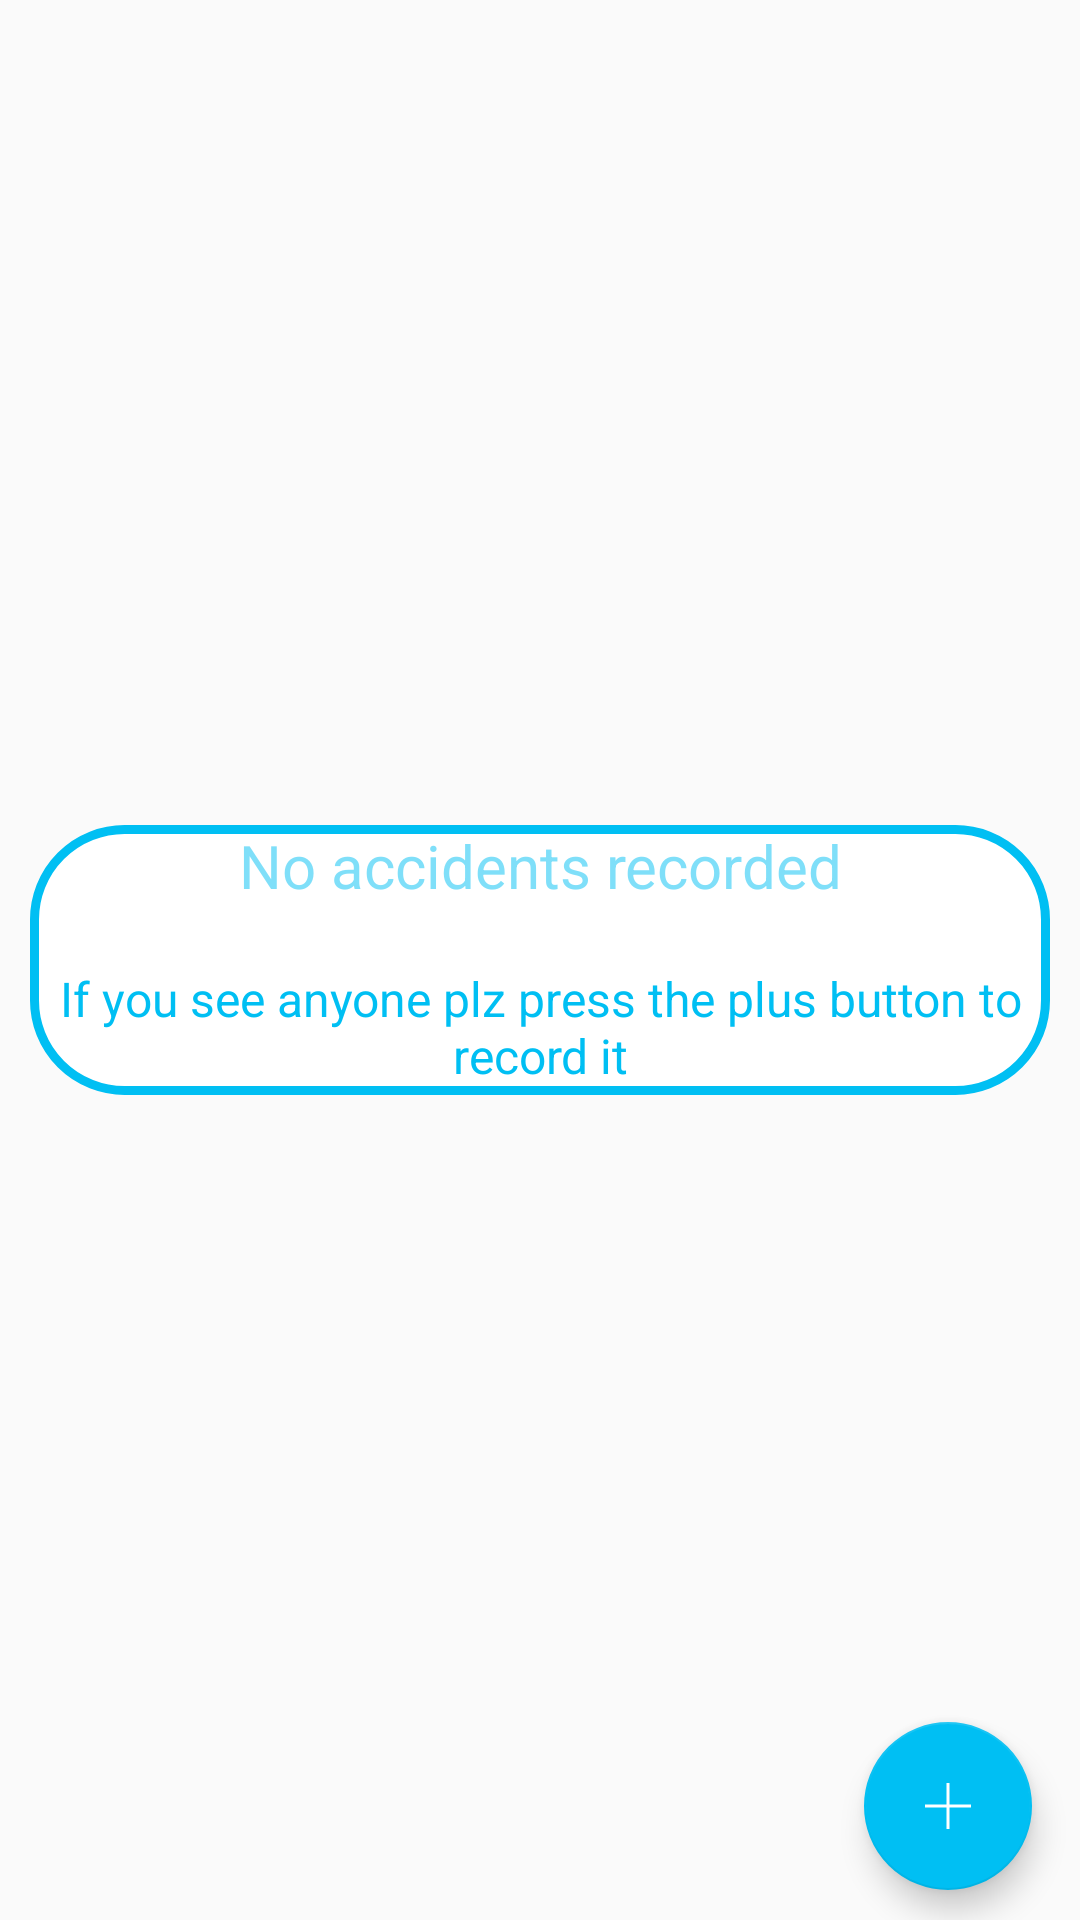

Locate icon controls on the screen. Image size 1080px×1920px, boxes as (x1, y1, x2, y2).
plus: (864, 1722, 1032, 1890)
